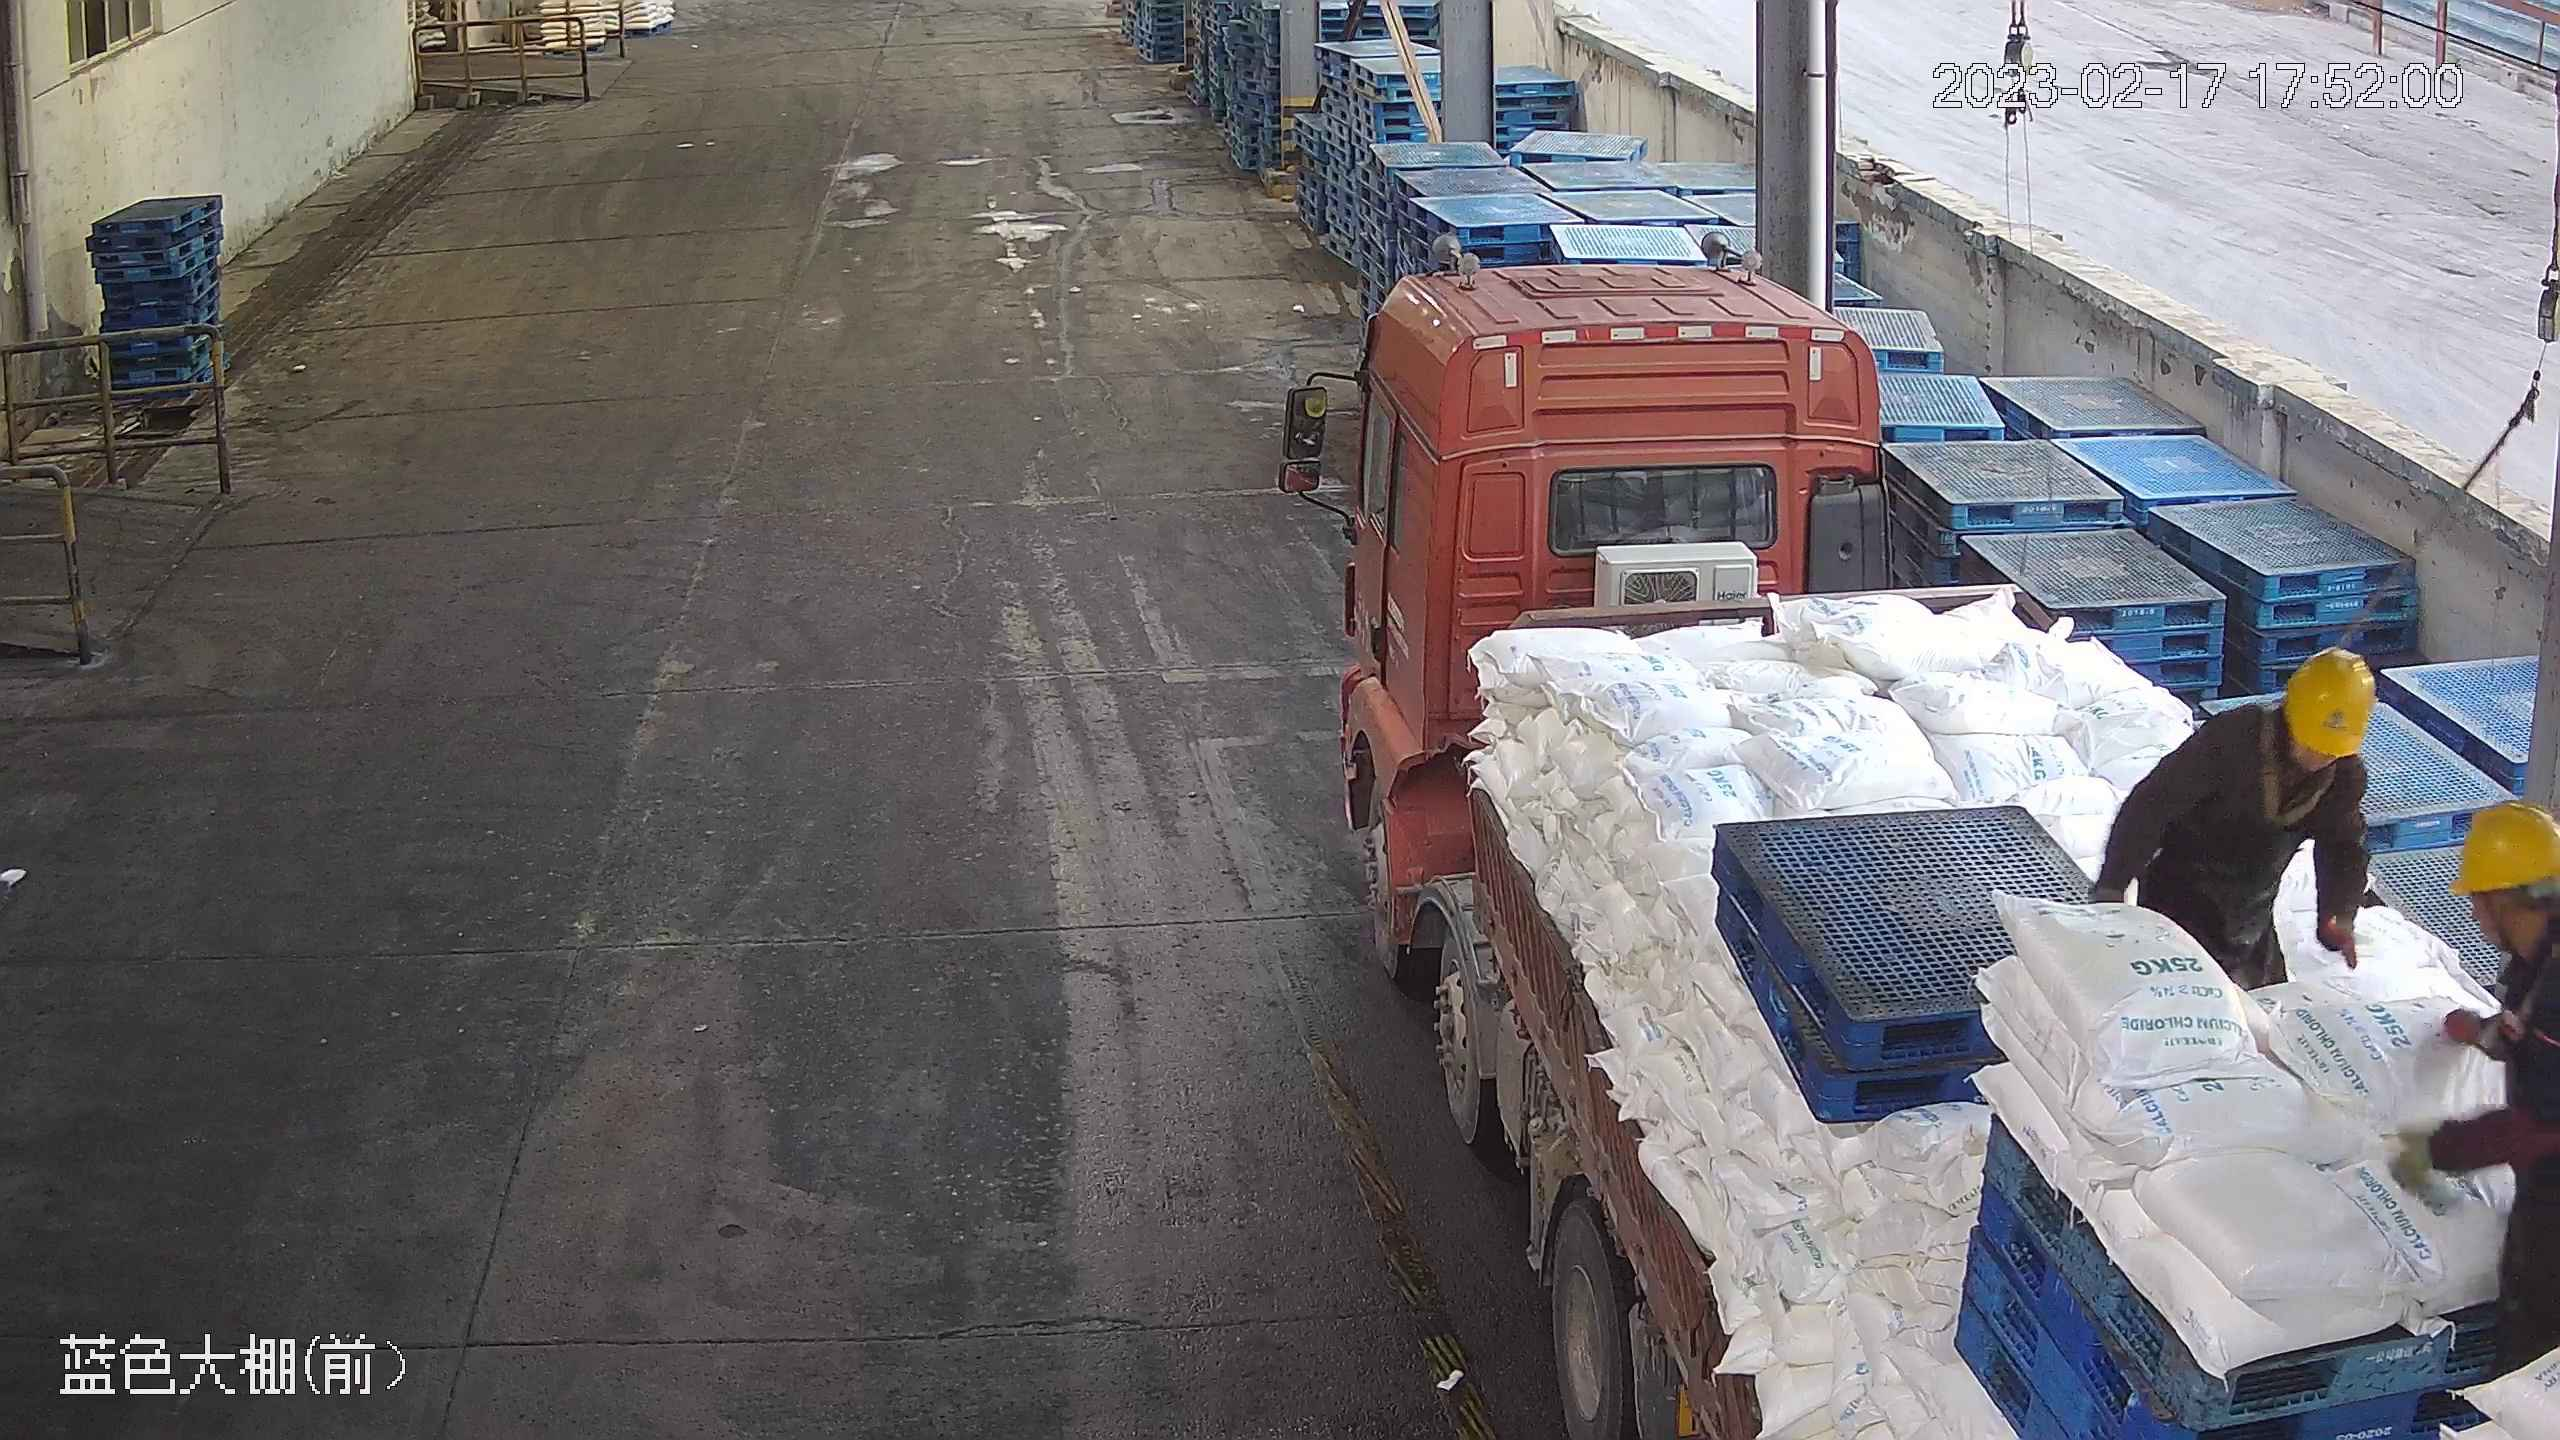belt: (2503, 914, 2560, 1113), (2244, 706, 2337, 824)
head: (2442, 795, 2560, 1042), (2193, 648, 2376, 801)
helmet: (2443, 795, 2560, 896), (2284, 646, 2377, 755)
people: (2084, 651, 2379, 1002), (2406, 797, 2560, 1437)
truck: (1272, 235, 2556, 1440)
